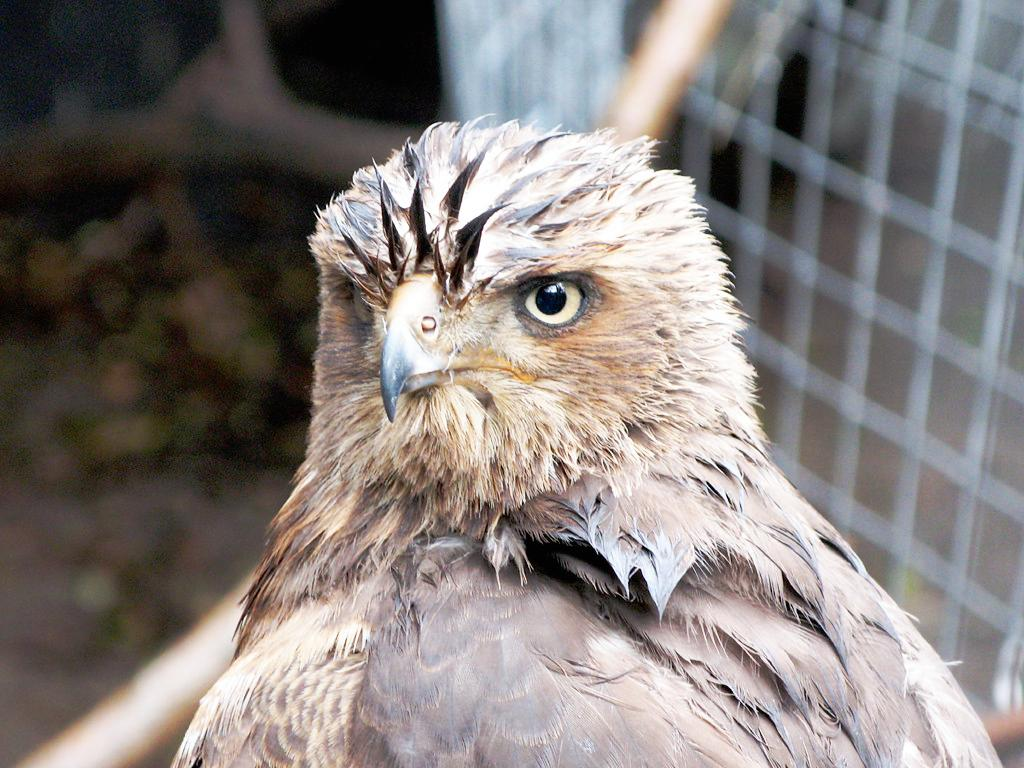Owl: (133, 113, 987, 768)
